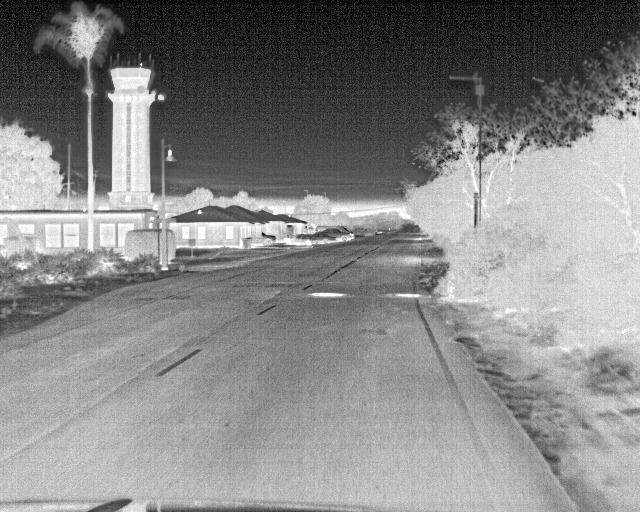car: (284, 232, 315, 248), (318, 228, 347, 243), (306, 233, 336, 245), (334, 224, 354, 240), (259, 229, 277, 246)
